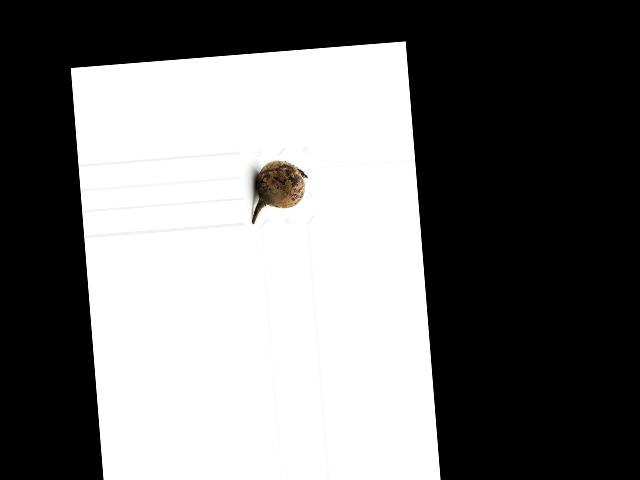beet: (247, 157, 310, 223)
